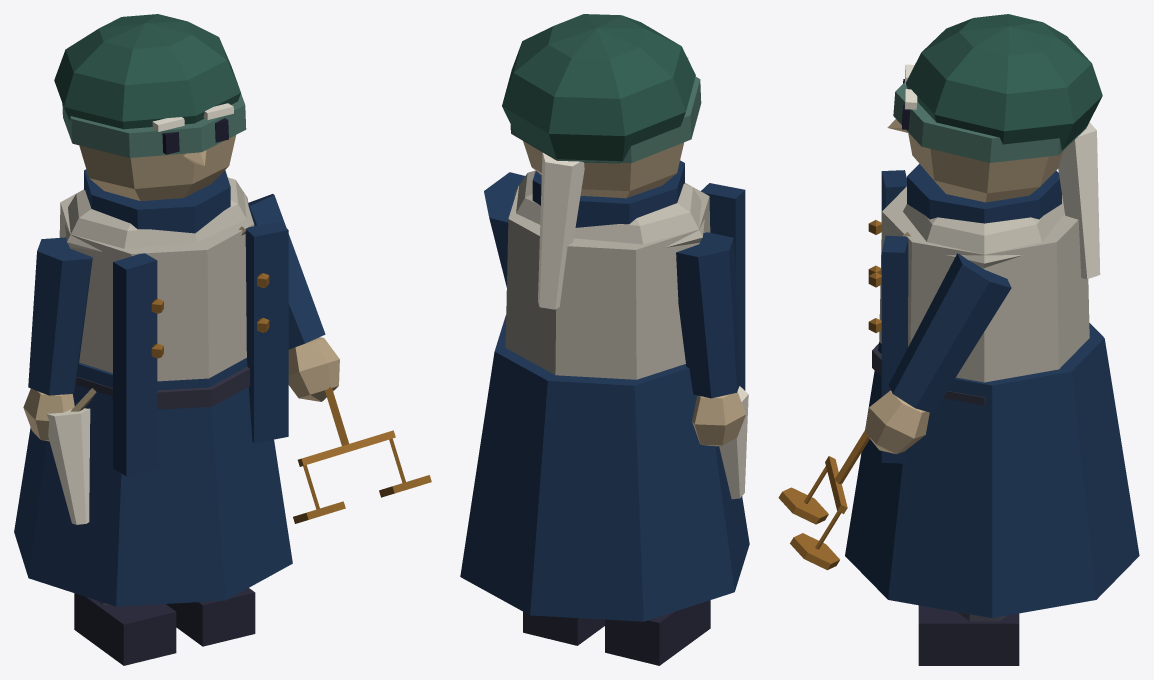
The model's file is oda.glb.
3 views of the same model, side by side, from view 1: azimuth 30°, elevation 25°; view 2: azimuth 150°, elevation 25°; view 3: azimuth 270°, elevation 25° (orthographic). The views are drawn at different scales.
Visible parts, largest first — view 1: Torso, Head, ArmR, ArmL, LegR, LegL; view 2: Torso, Head, ArmR, LegR, ArmL, LegL; view 3: Torso, Head, ArmL, LegL.
Part boxes in pixels (x1=…): Torso: x1=14, y1=169, x2=292, y2=606; Head: x1=54, y1=14, x2=246, y2=200; ArmR: x1=23, y1=237, x2=92, y2=441; ArmL: x1=248, y1=194, x2=431, y2=523; LegR: x1=74, y1=593, x2=176, y2=665; LegL: x1=166, y1=588, x2=255, y2=646; Torso: x1=460, y1=160, x2=749, y2=621; Head: x1=502, y1=14, x2=701, y2=309; ArmR: x1=676, y1=232, x2=745, y2=446; LegR: x1=605, y1=600, x2=710, y2=665; ArmL: x1=484, y1=172, x2=524, y2=287; LegL: x1=523, y1=611, x2=604, y2=645; Torso: x1=845, y1=164, x2=1139, y2=617; Head: x1=887, y1=14, x2=1102, y2=279; ArmL: x1=778, y1=253, x2=1011, y2=570; LegL: x1=918, y1=605, x2=1019, y2=665.
Size of the model in its own units: 0.952 by 1.73 by 0.9315.
